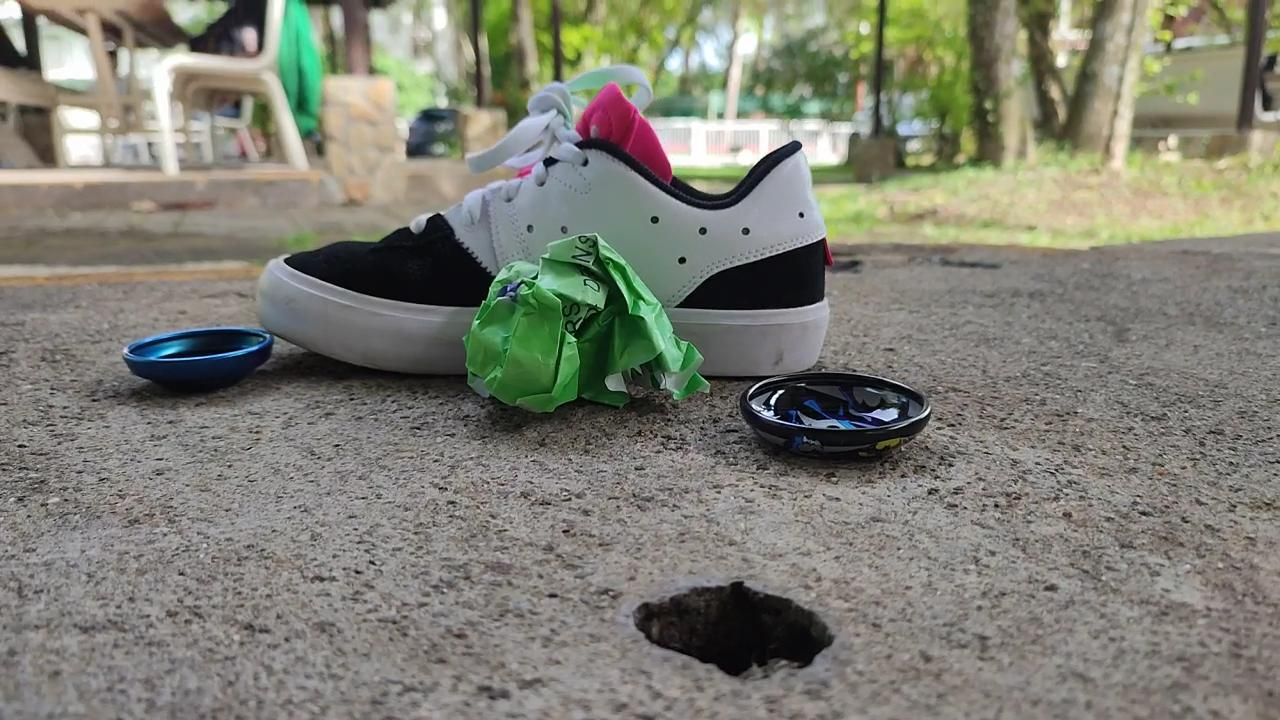Paper: (446, 218, 720, 429)
